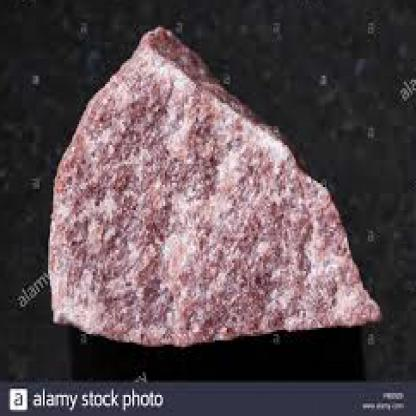Metamorphic_Quartize: (36, 10, 383, 349)
